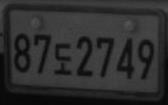2: (75, 34, 93, 77)
4: (115, 37, 135, 80)
7: (95, 36, 115, 78), (33, 33, 52, 75)
8: (13, 32, 32, 73)
9: (136, 38, 155, 80)
도: (53, 42, 74, 75)
